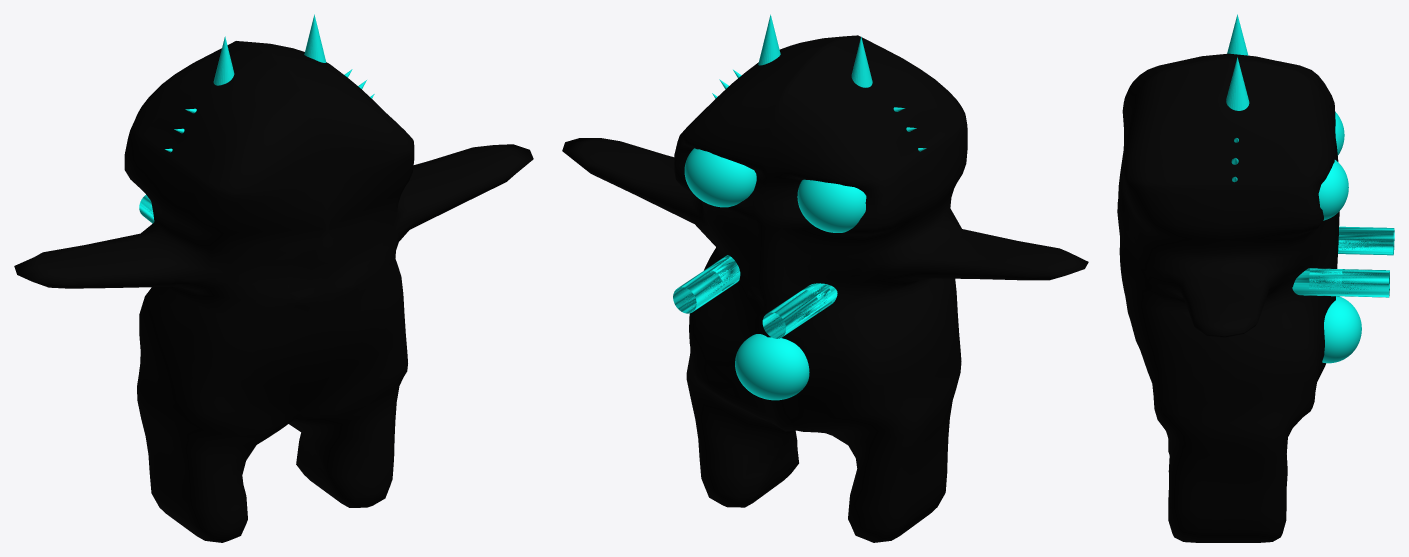
File: EnemigoAc.fbx
3 renders of one model, left to right at view 1: azimuth 30°, elevation 25°; view 2: azimuth 150°, elevation 25°; view 3: azimuth 270°, elevation 25°, orthographic. The views are drawn at different scales.
Visible parts, largest first — view 1: Cube; view 2: Cube, Sphere.002, Sphere, Sphere.001, Cylinder.001, Cylinder, Cone.001; view 3: Cube, Cylinder, Sphere.002, Cylinder.001, Sphere, Cone, Cone.001.
Boxes of the visible parts, x1,y1,x2,y2 form: Cube: [14, 41, 533, 542]; Cube: [562, 35, 1088, 542]; Sphere.002: [735, 334, 809, 400]; Sphere: [684, 148, 756, 207]; Sphere.001: [797, 179, 866, 232]; Cylinder.001: [762, 283, 837, 338]; Cylinder: [673, 255, 740, 313]; Cone.001: [851, 36, 872, 87]; Cube: [1117, 53, 1339, 542]; Cylinder: [1292, 268, 1389, 297]; Sphere.002: [1322, 296, 1361, 363]; Cylinder.001: [1338, 226, 1394, 255]; Sphere: [1318, 160, 1348, 220]; Cone: [1226, 57, 1249, 110]; Cone.001: [1227, 14, 1248, 55].
Size of the model in its own units: 392 by 351 by 187.
